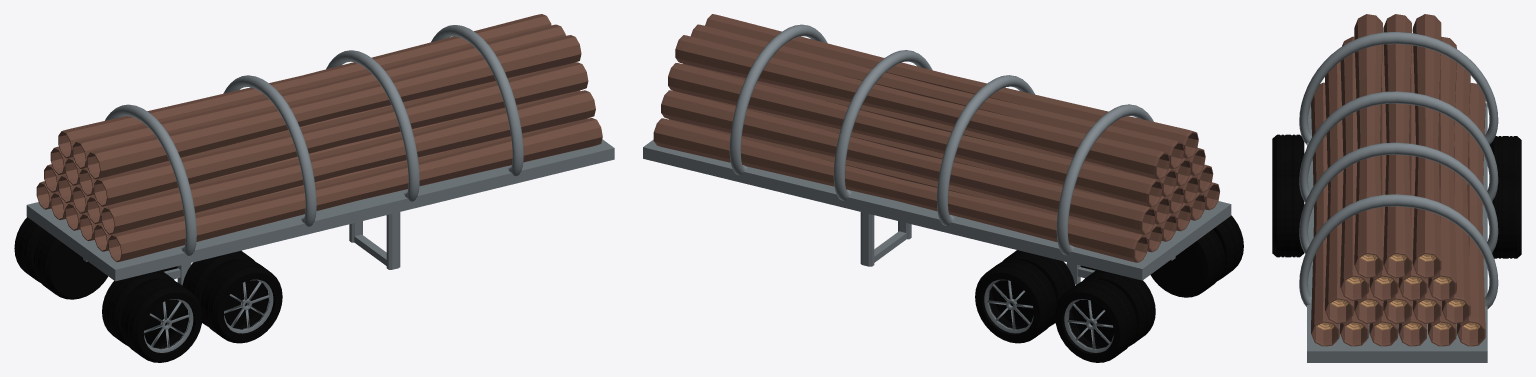
The model's file is LogTrailer.fbx.
The picture shows the model from 3 angles, left to right: view 1: azimuth 30°, elevation 25°; view 2: azimuth 150°, elevation 25°; view 3: azimuth 270°, elevation 25°; orthographic projection.
Visible parts, largest first — view 1: Cylinder; view 2: Cylinder; view 3: Cylinder.
Boxes of the visible parts, <box> form: Cylinder: <box>14,14,614,362</box>; Cylinder: <box>643,14,1243,362</box>; Cylinder: <box>1272,14,1521,362</box>.
Bounding box in the file's own units: 964 × 365 × 410.
